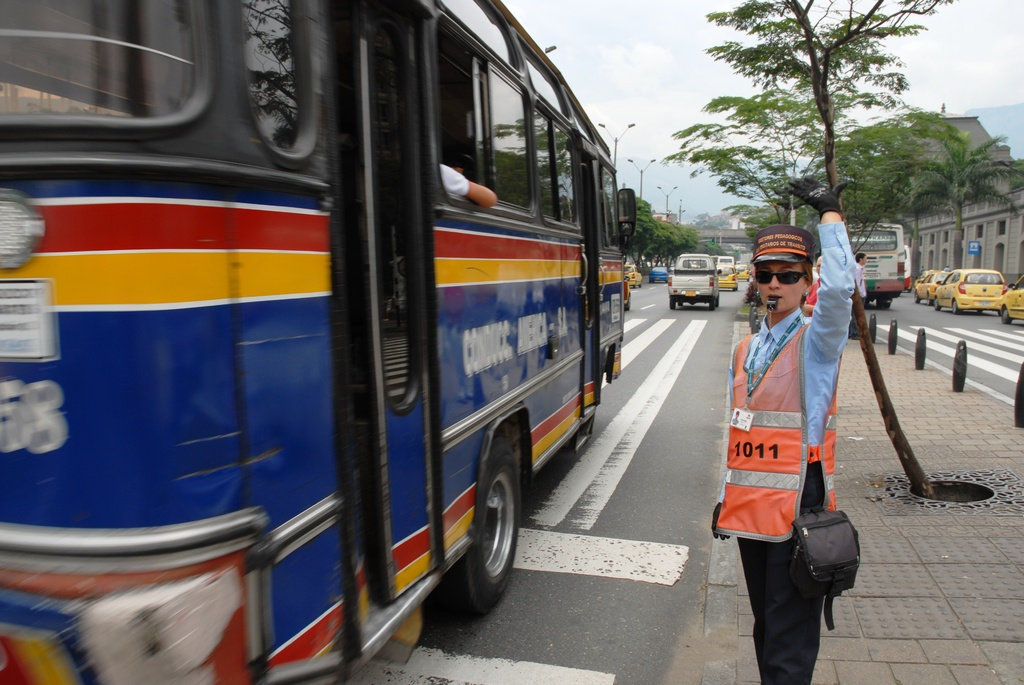Bus: (0, 0, 640, 684), (844, 221, 906, 306)
